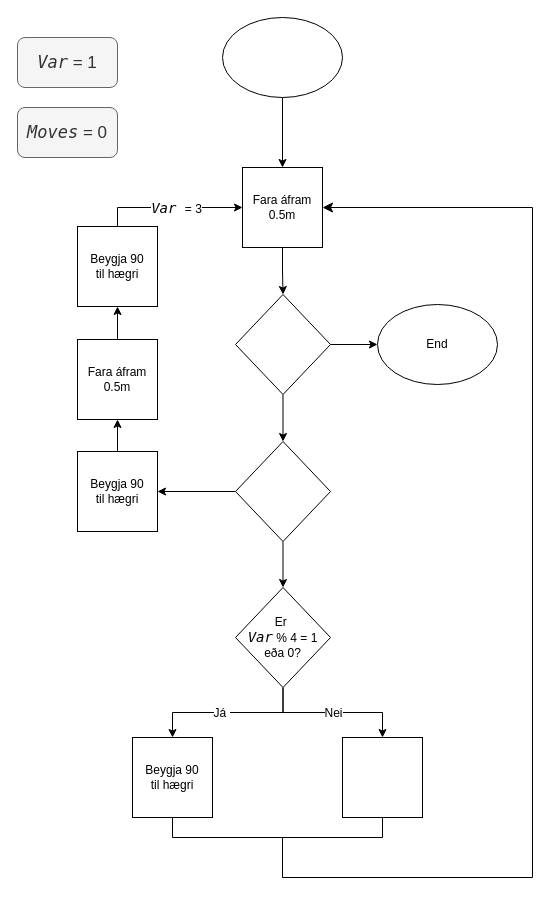
This 560x905 diagram has some shape labels left out. The box of each missing label's shape, as (x1, y1, x2, y2) in pixels:
Beygja 90 til vinstri: (342, 736, 422, 818)
Er Moves = 12?: (234, 294, 330, 394)
Er Var = 7?: (234, 440, 330, 542)
Start: (222, 16, 342, 98)
